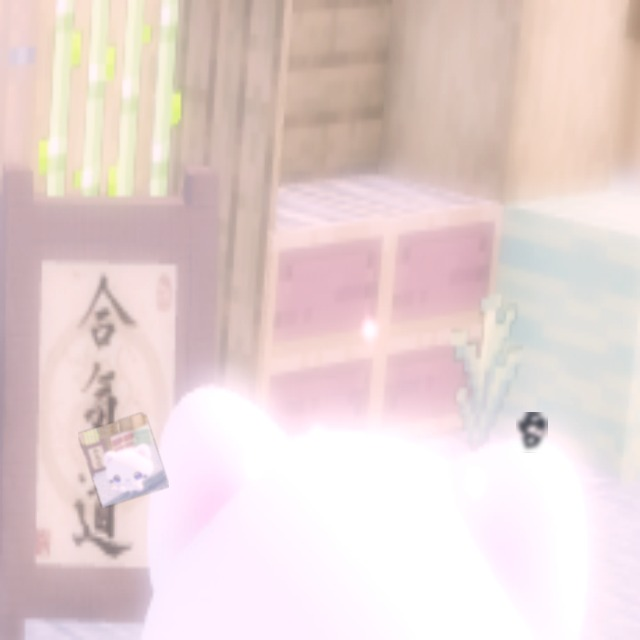urso_branco: (78, 412, 169, 508)
urso_preto: (516, 412, 548, 453)
